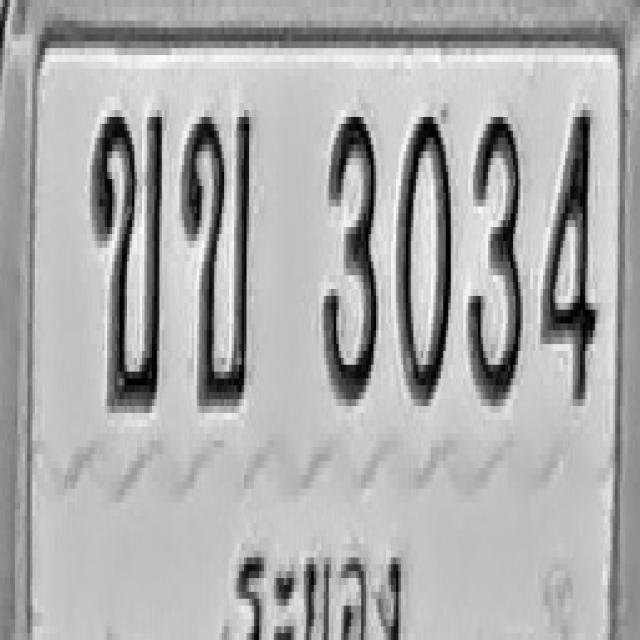0: (396, 110, 451, 406)
11KhorKhai: (91, 103, 163, 413), (180, 110, 252, 406)
3: (321, 110, 379, 406), (467, 110, 522, 406)
4: (540, 103, 598, 406)
Rayong: (227, 517, 417, 640)
